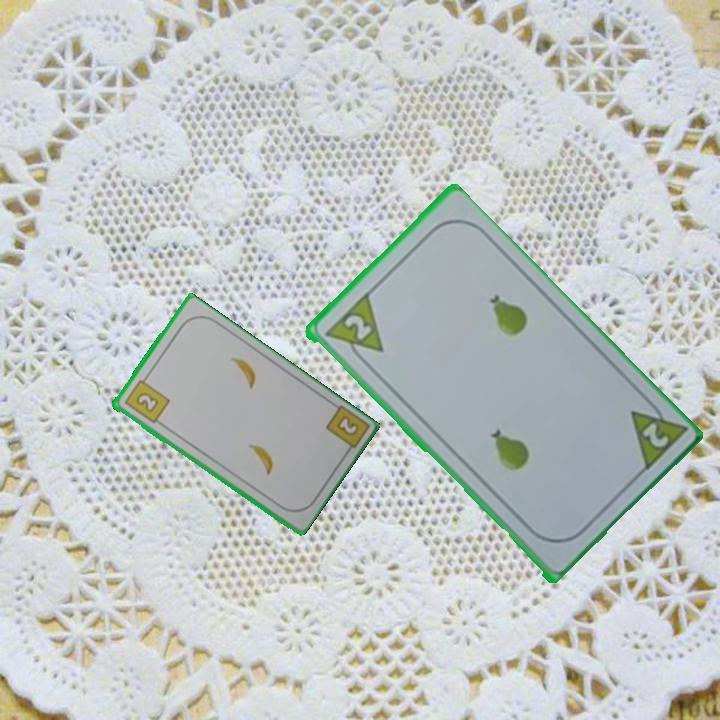2b: (120, 372, 172, 426), (333, 412, 362, 439)
2p: (625, 392, 688, 476), (339, 310, 374, 344)
